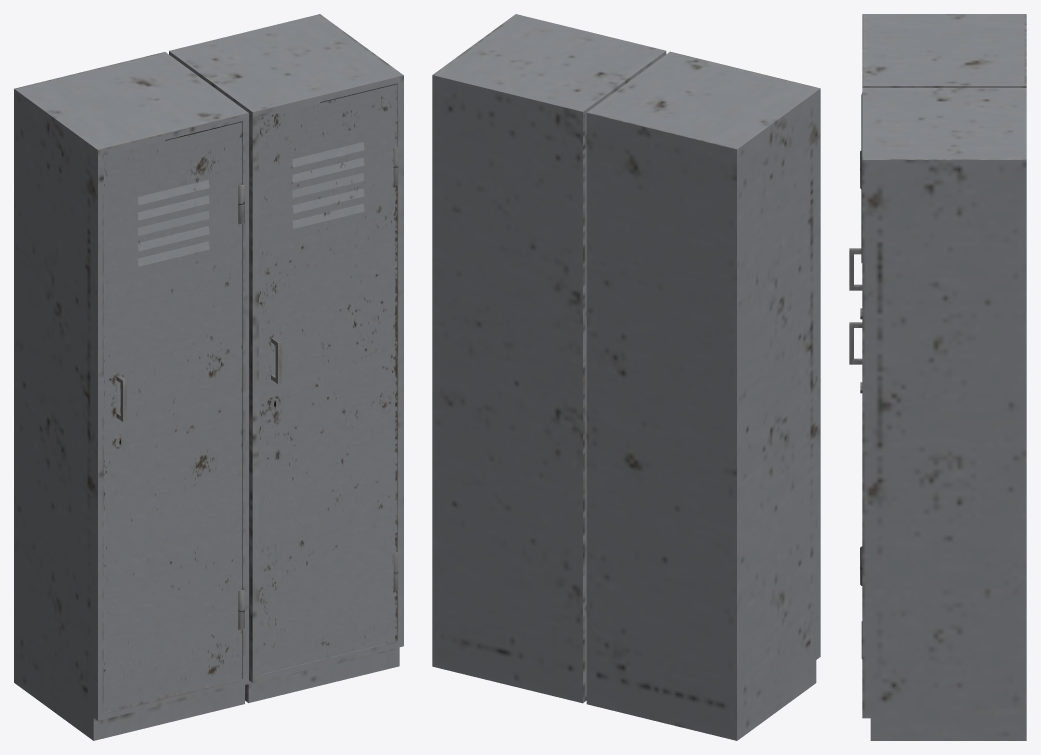
Rendered from steel_locker.06568f53bb.glb.
3 renders of one model, left to right at view 1: azimuth 30°, elevation 25°; view 2: azimuth 150°, elevation 25°; view 3: azimuth 270°, elevation 25°, orthographic. The views are drawn at different scales.
Parts seen in each view (by area): view 1: steel_locker_0, steel_locker_door_r, steel_locker_door_l; view 2: steel_locker_0; view 3: steel_locker_0, steel_locker_door_r, steel_locker_door_l.
Part boxes in pixels (x1,y1,x2,y2): steel_locker_0: (14,14,403,740); steel_locker_door_r: (259,84,397,674); steel_locker_door_l: (104,122,242,712); steel_locker_0: (432,14,820,740); steel_locker_0: (860,14,1026,740); steel_locker_door_r: (849,166,862,393); steel_locker_door_l: (849,92,862,319).
Bounding box in the file's own units: 1.08 × 2 × 0.5524.
Materials: 3 (3 with a texture image).
